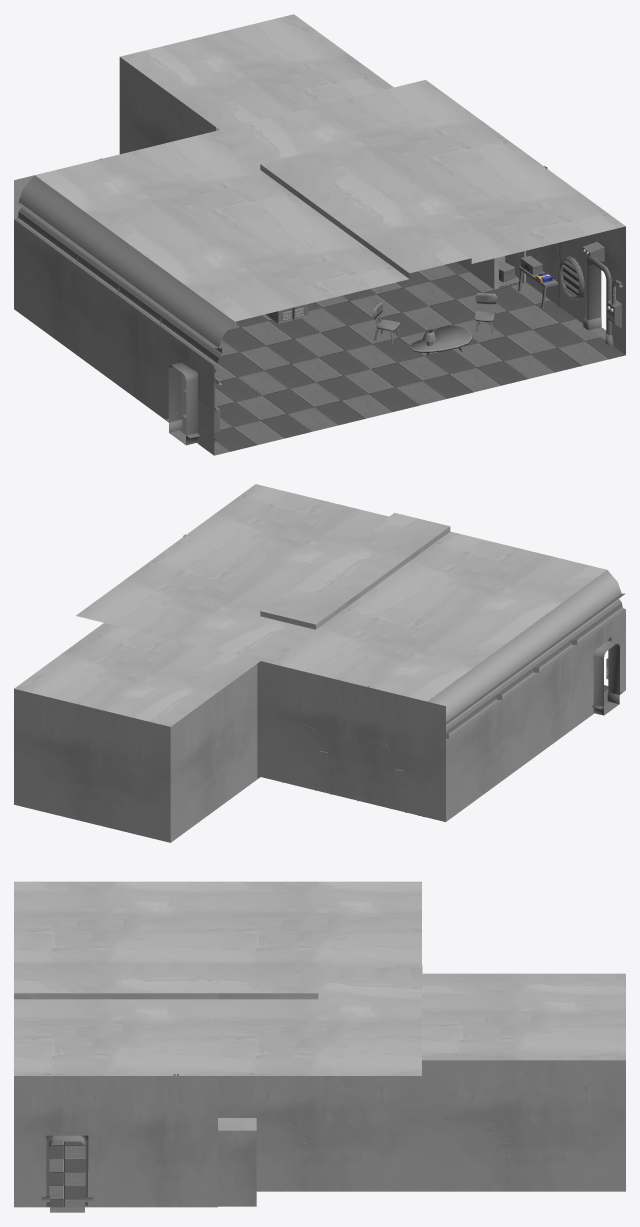
The model's file is MSH_living_quarters_L1_R2_optimized.fbx.
3 renders of one model, top to bottom at view 1: azimuth 30°, elevation 25°; view 2: azimuth 150°, elevation 25°; view 3: azimuth 270°, elevation 25°, orthographic. The views are drawn at different scales.
Visible parts, largest first — view 1: lightmap1, MSH_living_quarters_L1_R2_door; view 2: lightmap1, MSH_living_quarters_L1_R2_door; view 3: lightmap1.
Boxes of the visible parts, left/top/right/bottom form: lightmap1: left=14, top=14, right=625, bottom=455; MSH_living_quarters_L1_R2_door: left=168, top=262, right=606, bottom=445; lightmap1: left=14, top=484, right=625, bottom=842; MSH_living_quarters_L1_R2_door: left=593, top=640, right=619, bottom=715; lightmap1: left=14, top=881, right=625, bottom=1207.
Bounding box in the file's own units: 20.61 × 6.17 × 24.77.
Materials: 4 (3 with a texture image).
